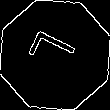L_SE: (26, 30, 84, 80)
